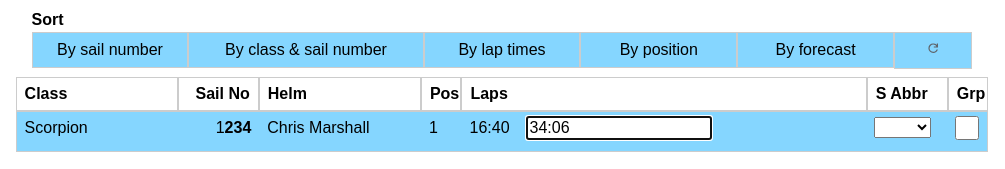
Test: when updating a lap time › refreshes display after lap time updated
Replace the text in the field with "33:20": (619, 128) [526, 116, 712, 140]
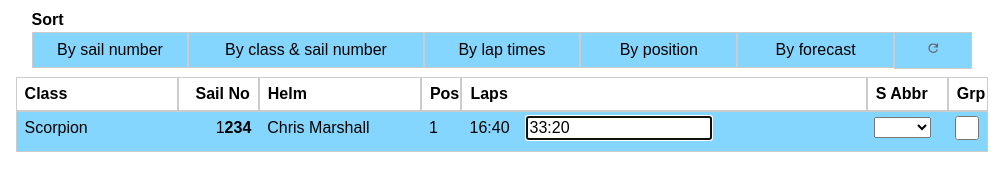
Press Enter
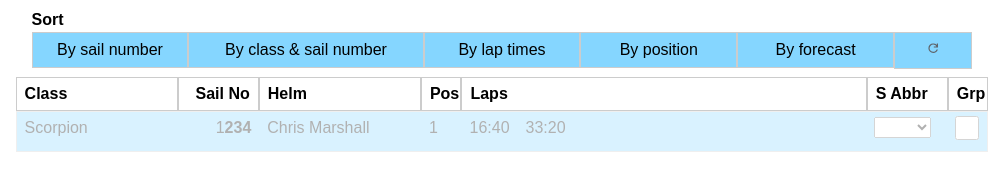
expect the text "33:20" is shown: met, box [526, 119, 566, 136]
